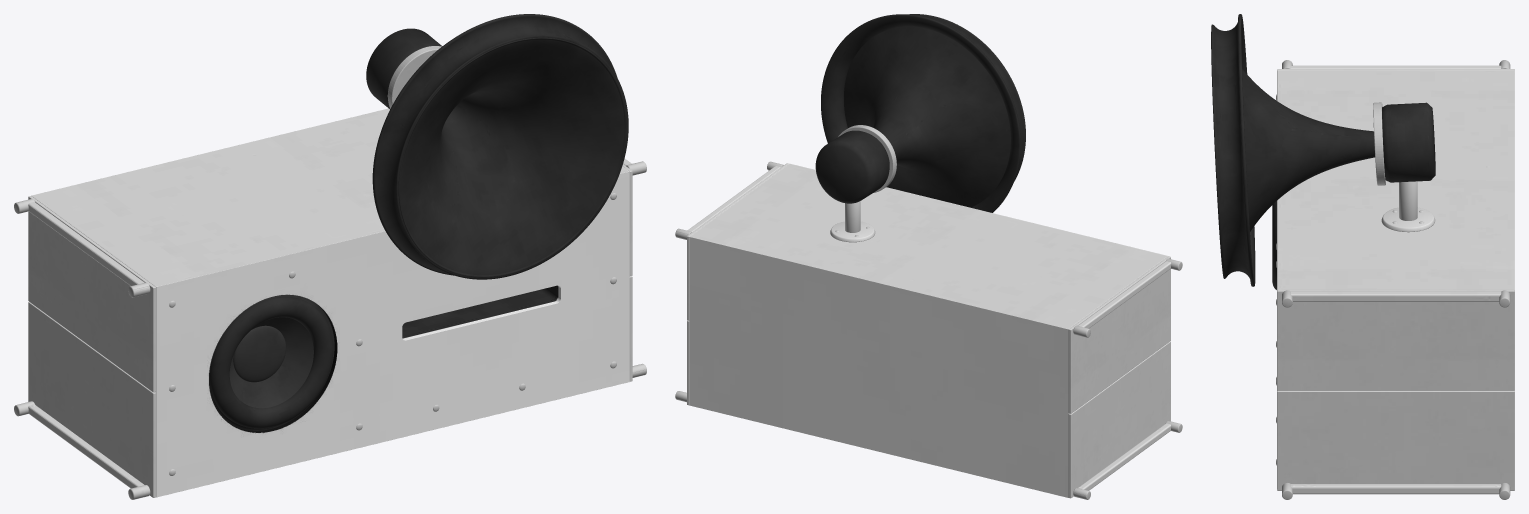
Rendered from tulip.glb.
The picture shows the model from 3 angles, left to right: view 1: azimuth 30°, elevation 25°; view 2: azimuth 150°, elevation 25°; view 3: azimuth 270°, elevation 25°; orthographic projection. The views are drawn at different scales.
Parts seen in each view (by area): view 1: Cabinet, Horn, Side L0, Side L1, Surround, Cone, Driver, Dust cap, Rail, Rail.001, Driver collar; view 2: Cabinet, Horn, Side L0, Side L1, Driver, Rail, Rail.001, Driver collar, Post foot; view 3: Cabinet, Side R0, Side R1, Horn, Driver, Rail.003, Rail.002, Post foot, Rail.001, Driver collar, Post, Side L1 (+1 smaller).
Part boxes in pixels (<box>): Cabinet: <box>31,108,629,497</box>; Horn: <box>372,14,628,279</box>; Side L0: <box>28,302,155,497</box>; Side L1: <box>28,196,155,392</box>; Surround: <box>209,295,334,430</box>; Cone: <box>229,317,313,408</box>; Driver: <box>366,28,442,109</box>; Dust cap: <box>233,325,285,382</box>; Rail: <box>28,404,144,488</box>; Rail.001: <box>28,202,144,285</box>; Driver collar: <box>387,46,441,108</box>; Cabinet: <box>689,163,1168,497</box>; Horn: <box>821,14,1025,212</box>; Side L0: <box>1068,341,1170,498</box>; Side L1: <box>1068,256,1170,413</box>; Driver: <box>815,130,889,203</box>; Rail: <box>1078,423,1170,490</box>; Rail.001: <box>1078,261,1170,328</box>; Driver collar: <box>838,125,896,192</box>; Post foot: <box>830,221,875,242</box>; Cabinet: <box>1277,70,1514,489</box>; Side R0: <box>1277,390,1514,490</box>; Side R1: <box>1277,290,1514,390</box>; Horn: <box>1211,14,1374,286</box>; Driver: <box>1382,102,1435,182</box>; Rail.003: <box>1291,291,1501,301</box>; Rail.002: <box>1291,484,1501,494</box>; Post foot: <box>1381,207,1435,232</box>; Rail.001: <box>1291,65,1501,68</box>; Driver collar: <box>1373,102,1385,185</box>; Post: <box>1399,181,1417,220</box>; Side L1: <box>1277,69,1514,70</box>.
Size of the model in its own units: 0.664 by 0.5139 by 0.3579.
Materials: 43 (42 with a texture image).
